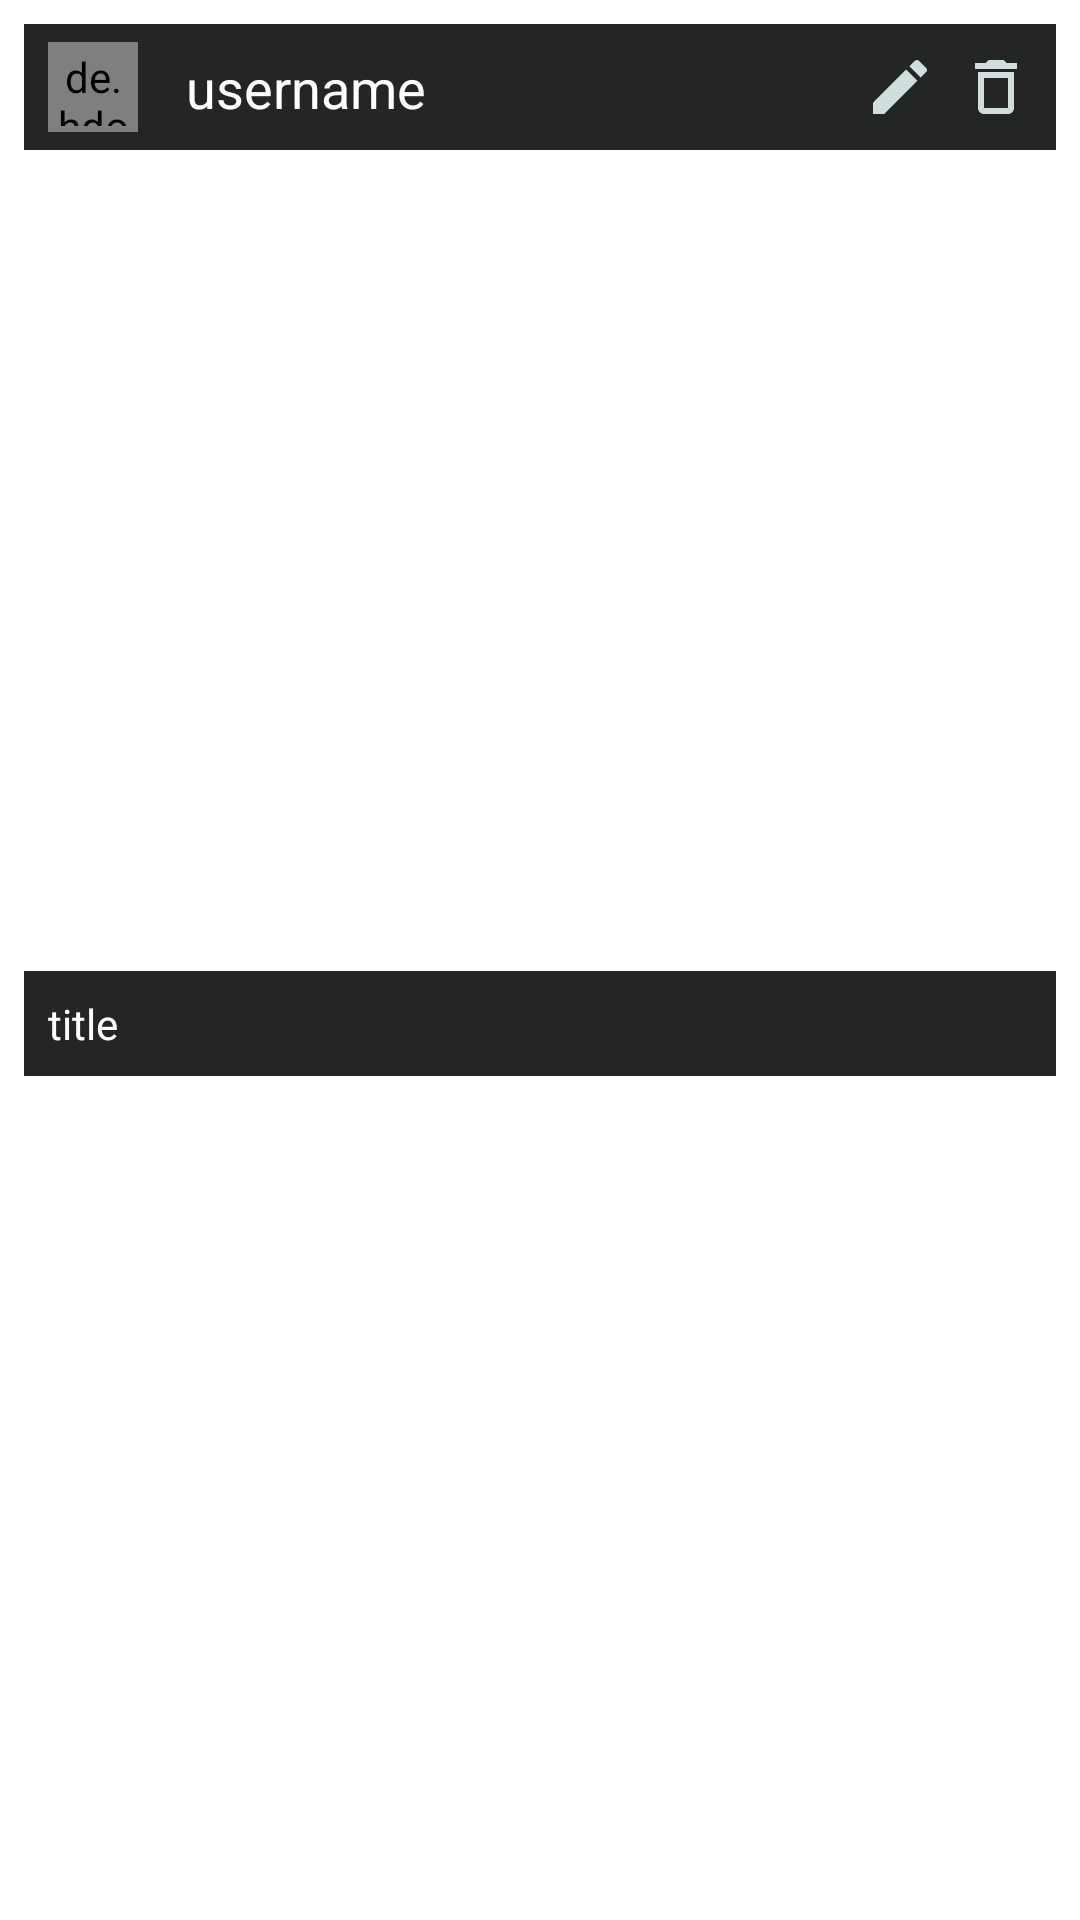

Named icons in this screenshot (1080w x 1920h) and their bounding boxes, rect(x1, y1, x2, y2):
delete: rect(975, 60, 1017, 114)
edit: rect(873, 60, 927, 114)
